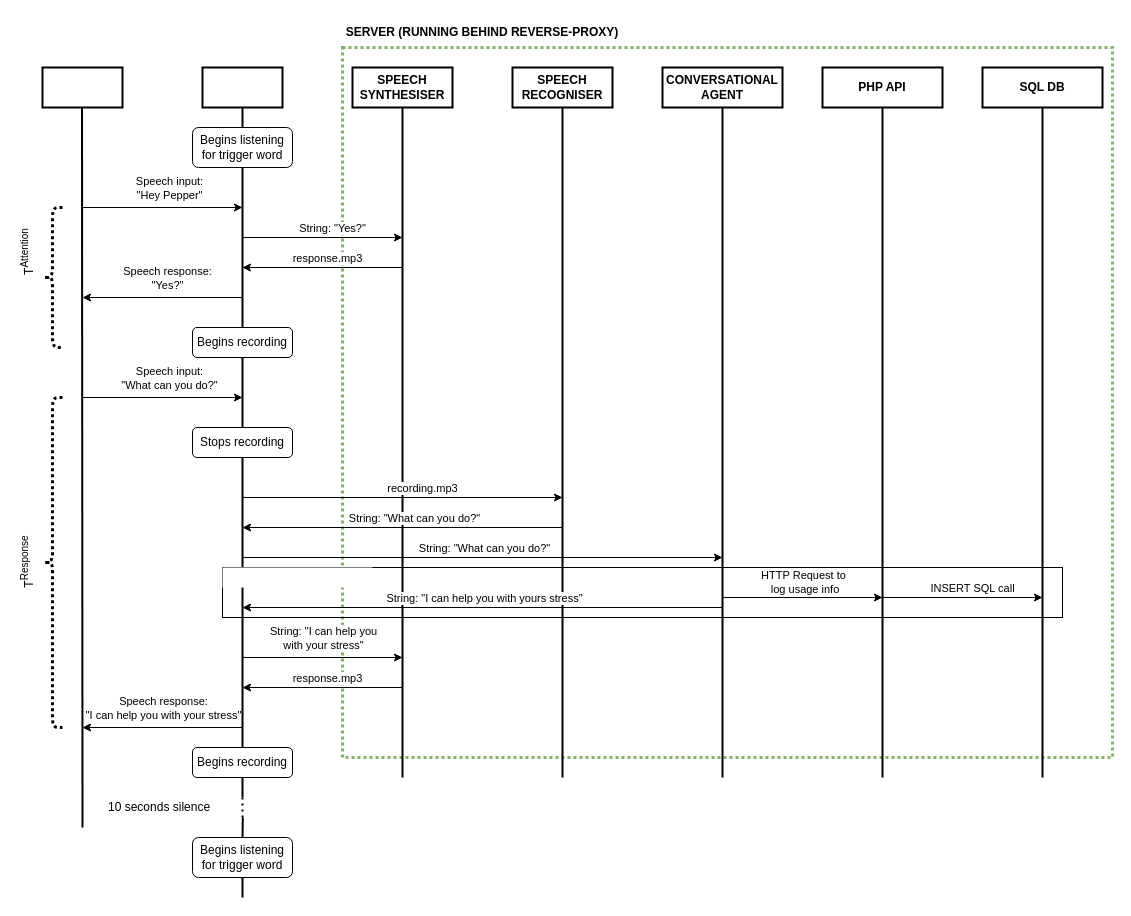
Image size: 1131x916. Some labels were removed from this diagram. The shapes that lost their labels are listed below. From the top down, each one's centre as x and y in pixels, then its label:
At point 82,87: "USER".
At point 242,87: "ROBOT".
At point 297,577: "parallel, unless DB query".
